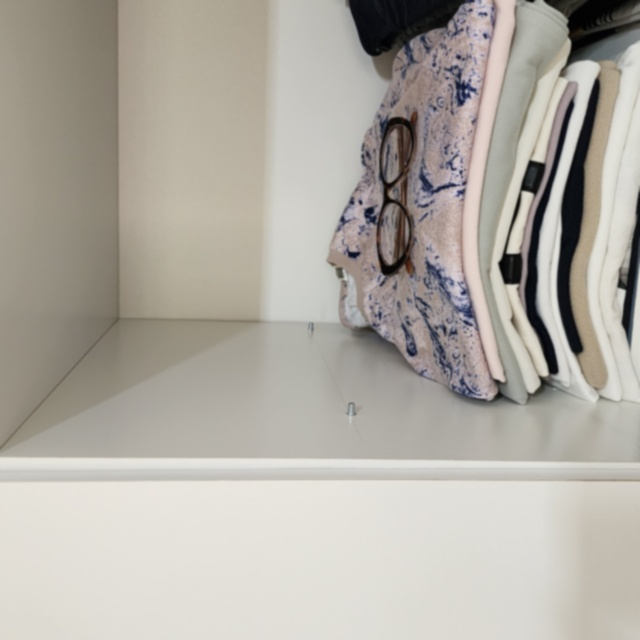glasses: (368, 110, 431, 281)
